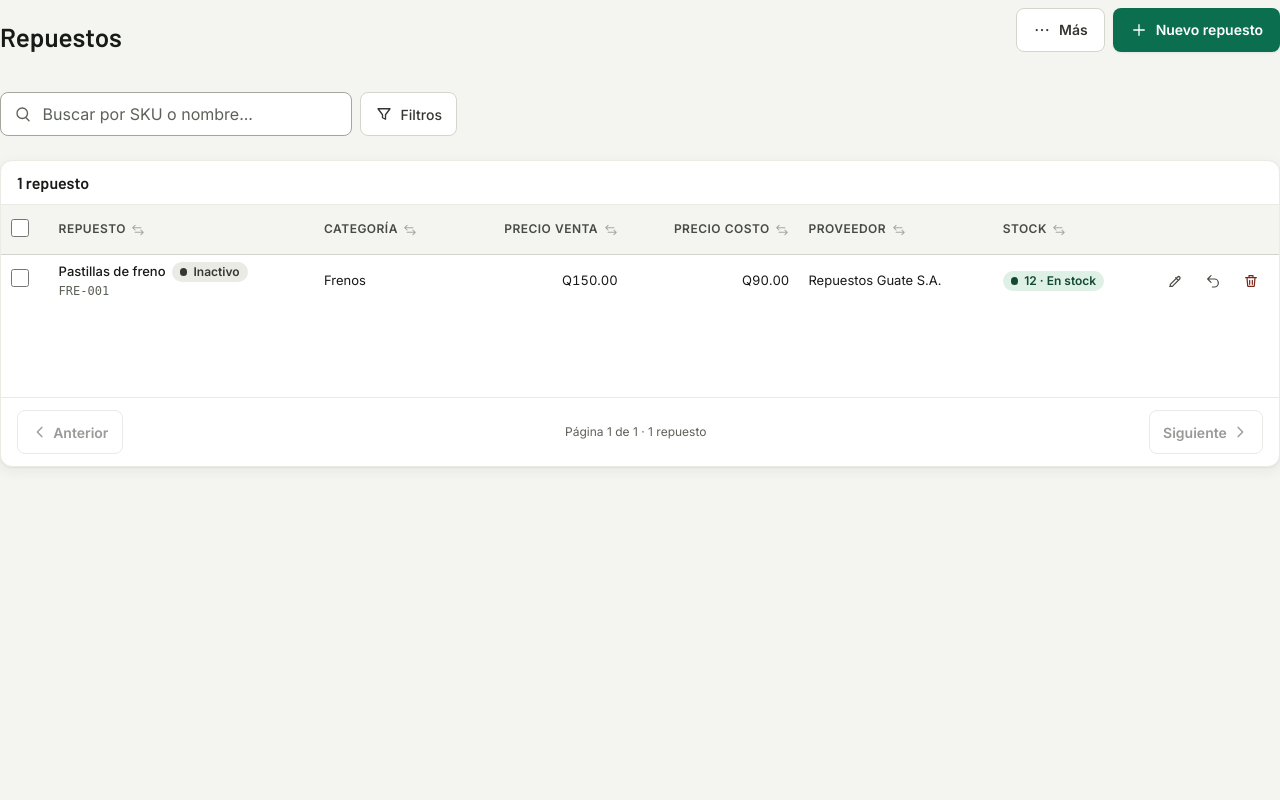
Test: RepuestosPage › muestra el mensaje del backend si el repuesto tiene historial asociado
This screenshot has width=1280, height=800.
Click the button named "eliminar" at x=1251, y=281, box [1233,263,1269,299]
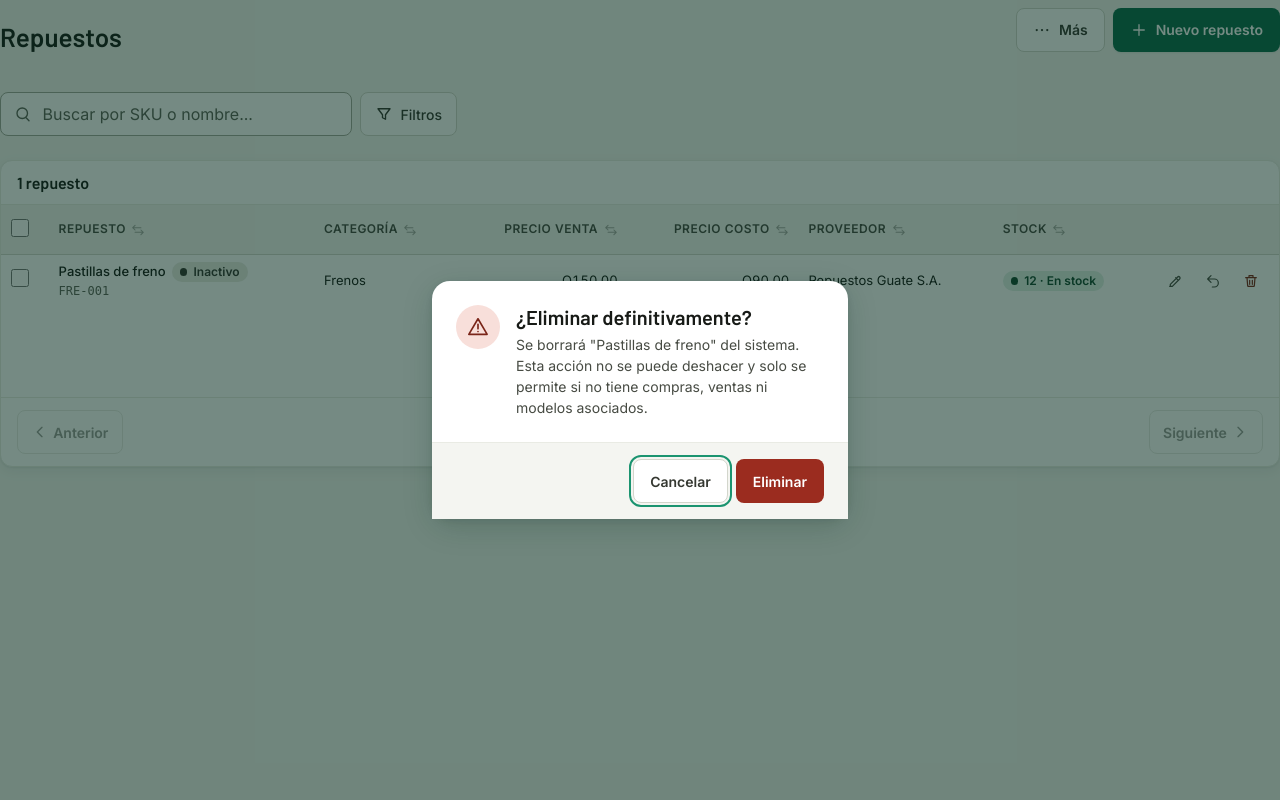
Click the button "Eliminar" at x=780, y=481, box [736,459,824,503]
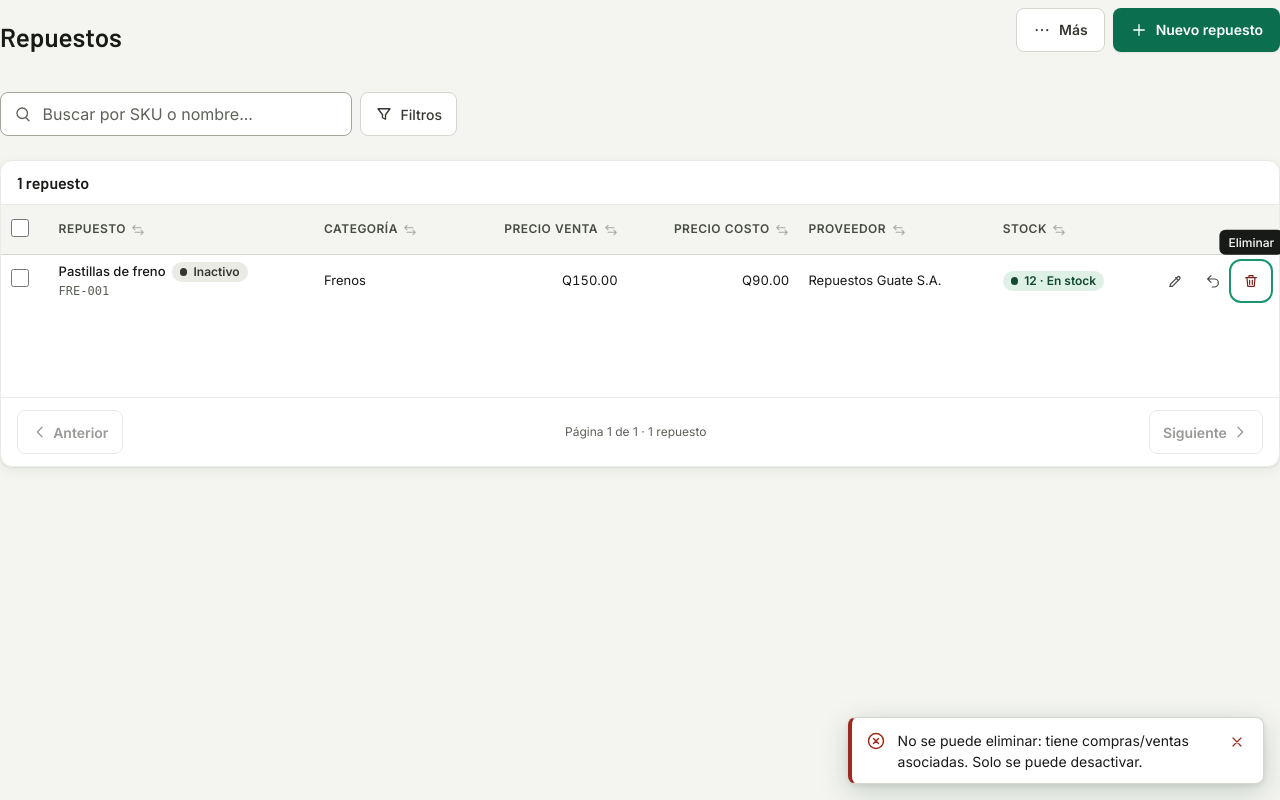
Expected: the text "Pastillas de freno" is shown, [59,263,166,279]
Expected: the message reads "No se puede eliminar: tiene compras/ventas asociadas. Solo se puede desactivar.", [898,732,1189,770]
